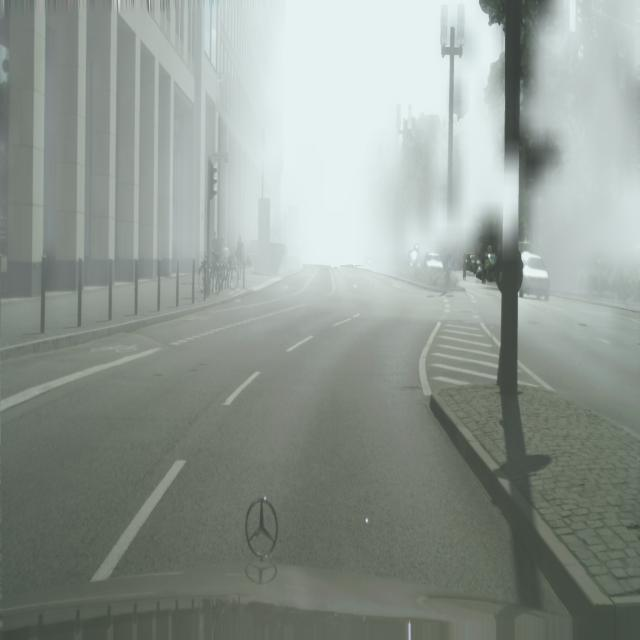car: (207, 253, 221, 296), (198, 253, 211, 299), (221, 255, 233, 289), (460, 250, 471, 284)
person: (210, 233, 221, 293), (234, 233, 245, 276), (220, 230, 229, 263)
truck: (519, 251, 550, 301), (424, 251, 444, 272), (407, 248, 420, 269)
